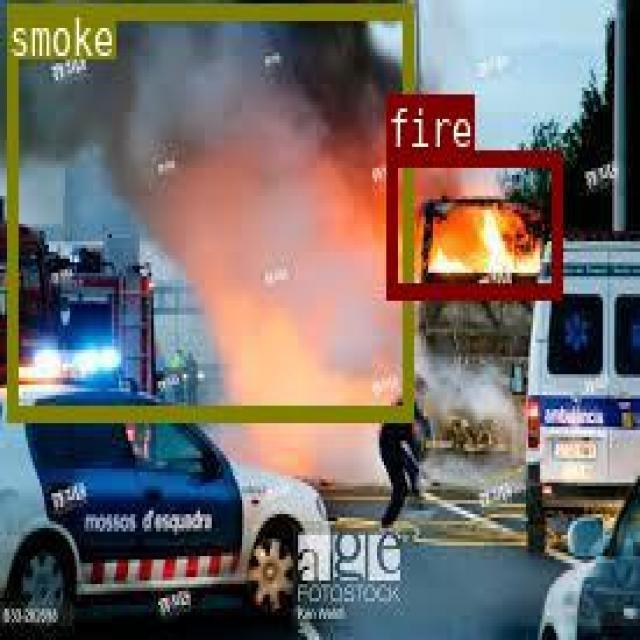fire: (385, 149, 559, 295)
smoke: (5, 3, 410, 418)
